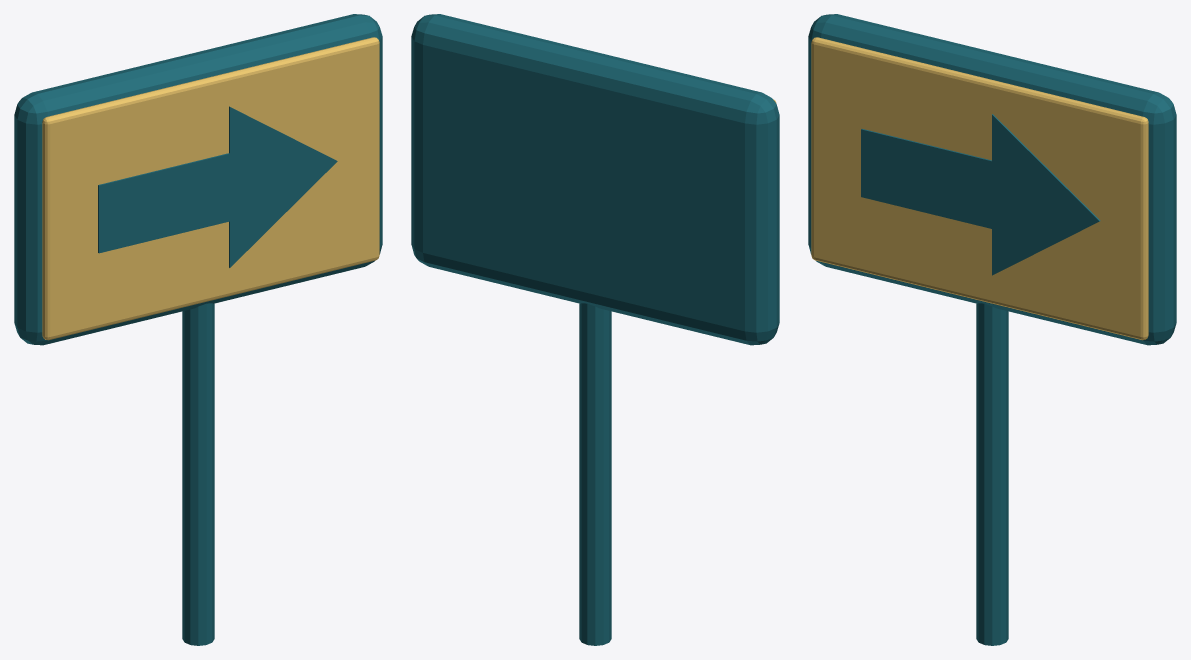
The model's file is race_curve_right.glb.
The picture shows the model from 3 angles, left to right: view 1: azimuth 30°, elevation 25°; view 2: azimuth 150°, elevation 25°; view 3: azimuth 330°, elevation 25°; orthographic projection.
Parts seen in each view (by area): view 1: race_curve_right; view 2: race_curve_right; view 3: race_curve_right.
Part boxes in pixels (bbox=[...]): race_curve_right: bbox=[14, 14, 382, 645]; race_curve_right: bbox=[411, 14, 779, 645]; race_curve_right: bbox=[808, 14, 1176, 645].
Size of the model in its own units: 2.35 by 3.62 by 0.31.
